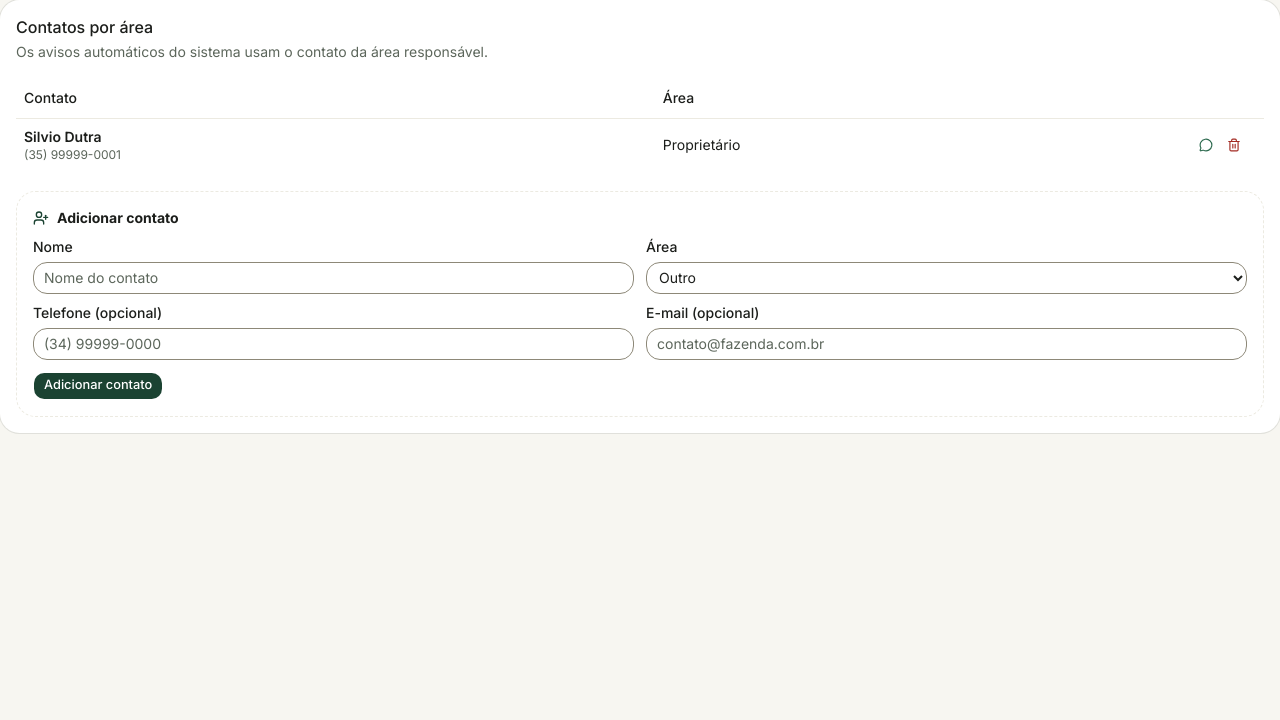
Test: ContatosCliente — remoção com confirmação › clicar na lixeira apenas pergunta; nada é removido ainda
The width and height of the screenshot is (1280, 720).
Step 1. Click the button named "Remover contato Silvio Dutra" → (1234, 144), box [1220,130,1248,158]
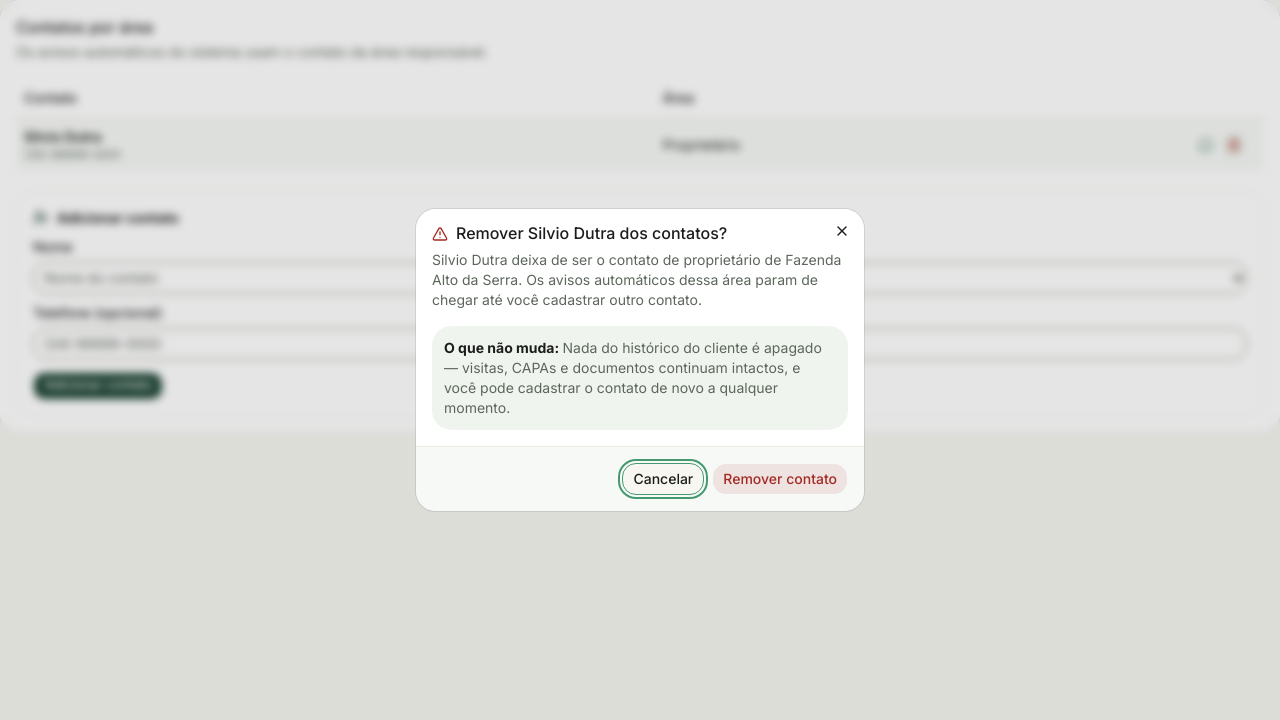
Check: the heading "Remover Silvio Dutra dos contatos?" is shown, box [432,223,727,243]
Check: the text "deixa de ser o contato de proprietário" is shown, box [432,251,841,308]
Check: the text "O que não muda:" is shown, box [444,339,562,356]
